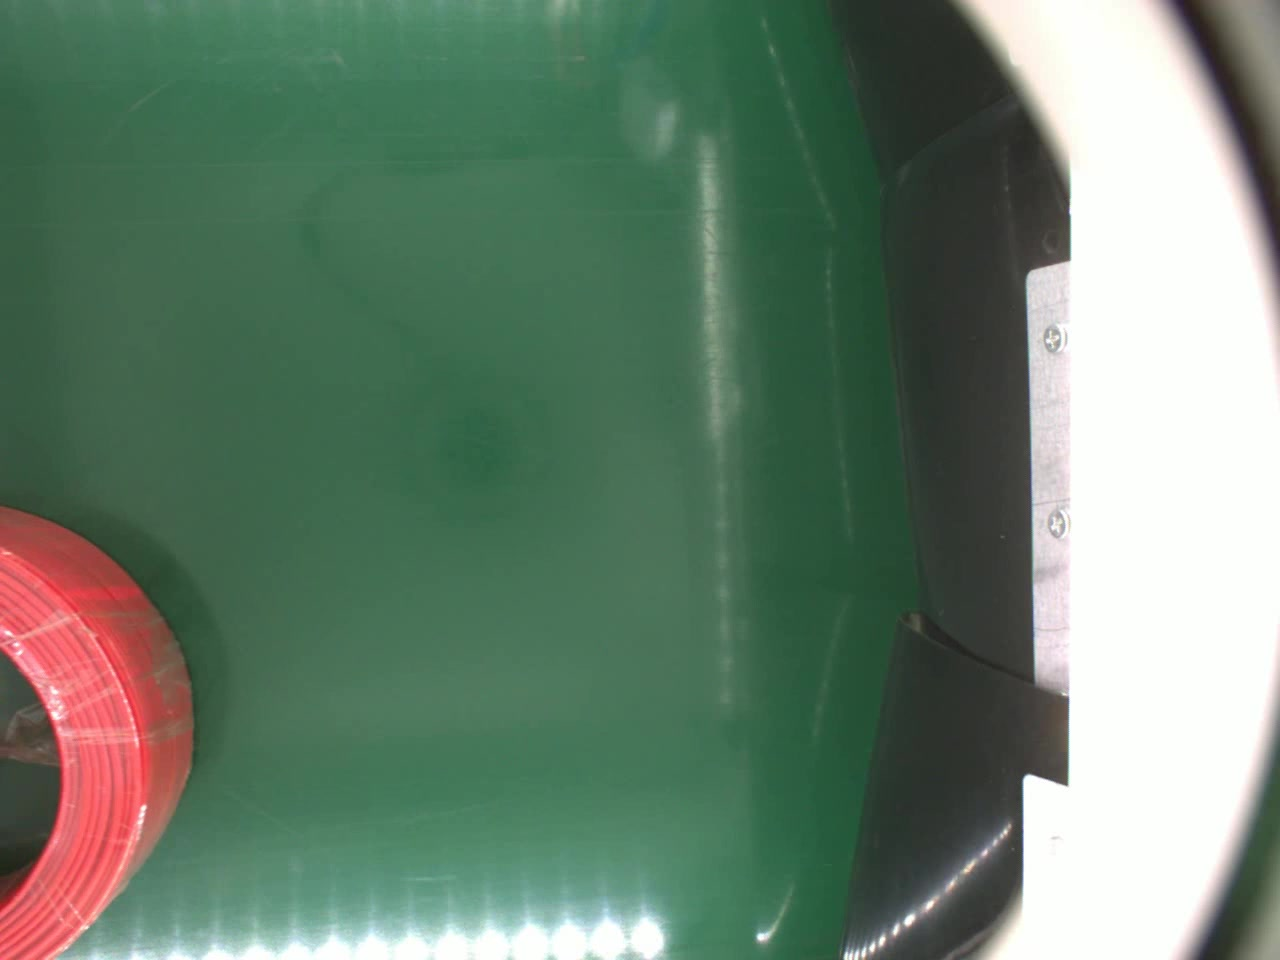red: (0, 509, 196, 960)
